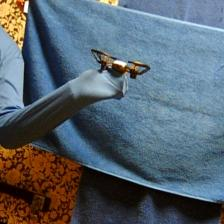drone: (92, 49, 150, 80)
